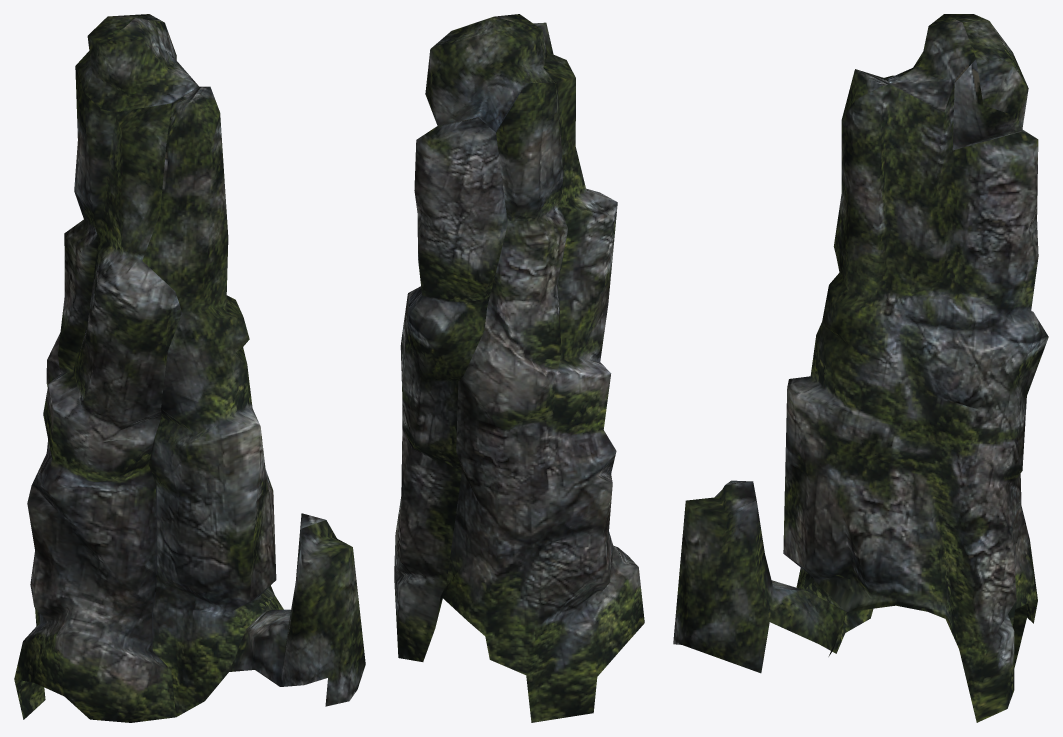
File: qys_shanshi04.FBX
3 views of the same model, side by side, from view 1: azimuth 30°, elevation 25°; view 2: azimuth 150°, elevation 25°; view 3: azimuth 270°, elevation 25° (orthographic).
Parts seen in each view (by area): view 1: qys_shanshi04; view 2: qys_shanshi04; view 3: qys_shanshi04.
Part boxes in pixels (x1=…): qys_shanshi04: x1=14, y1=14, x2=365, y2=722; qys_shanshi04: x1=394, y1=14, x2=644, y2=722; qys_shanshi04: x1=673, y1=14, x2=1048, y2=722.
Size of the model in its own units: 3495 by 10524 by 5270.
